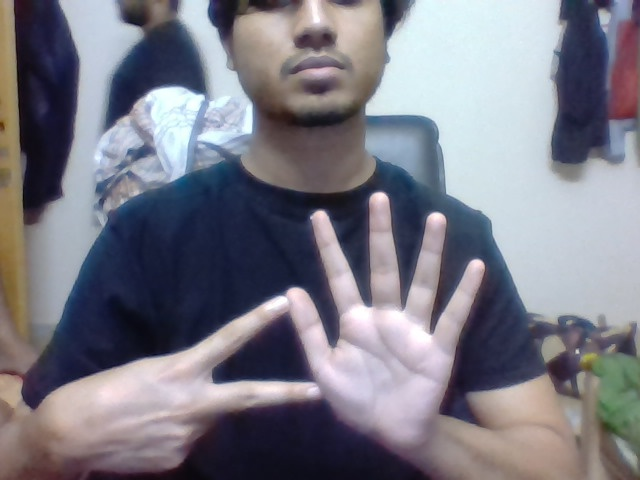N: (177, 291, 286, 420)
